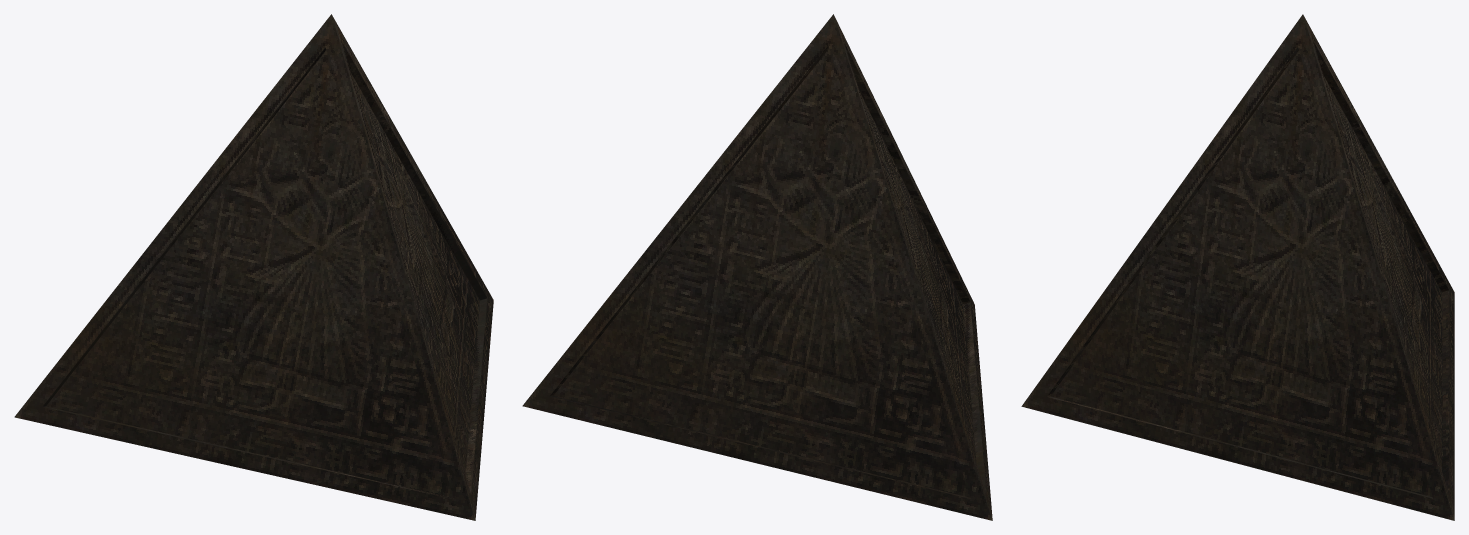
File: ancient_artifact_mx_1.glb
3 renders of one model, left to right at view 1: azimuth 30°, elevation 25°; view 2: azimuth 150°, elevation 25°; view 3: azimuth 270°, elevation 25°, orthographic. The views are drawn at different scales.
Parts seen in each view (by area): view 1: ancient_artifact_mx_1; view 2: ancient_artifact_mx_1; view 3: ancient_artifact_mx_1.
Boxes of the visible parts, box(x1,y1,x2,y2) form: ancient_artifact_mx_1: box(14, 14, 493, 520); ancient_artifact_mx_1: box(522, 14, 992, 520); ancient_artifact_mx_1: box(1021, 14, 1454, 520).
Size of the model in its own units: 0.5 by 0.4 by 0.4.
Materials: 1 (1 with a texture image).
